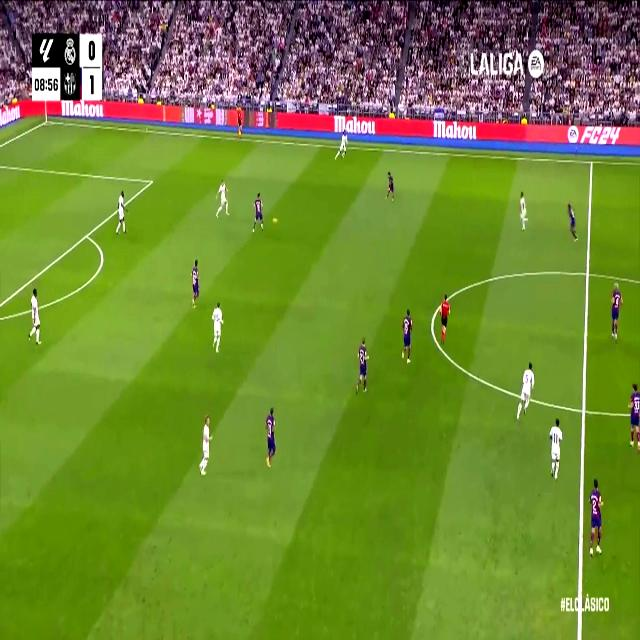bigarea_top_inner: (148, 175, 154, 188)
corner: (42, 114, 52, 125)
halfcircle_bottom: (578, 395, 590, 425)
halfcircle_top: (582, 262, 594, 286)
midline_top_intersection: (588, 154, 595, 170)
top_arc_area_intersection: (83, 225, 91, 242)
